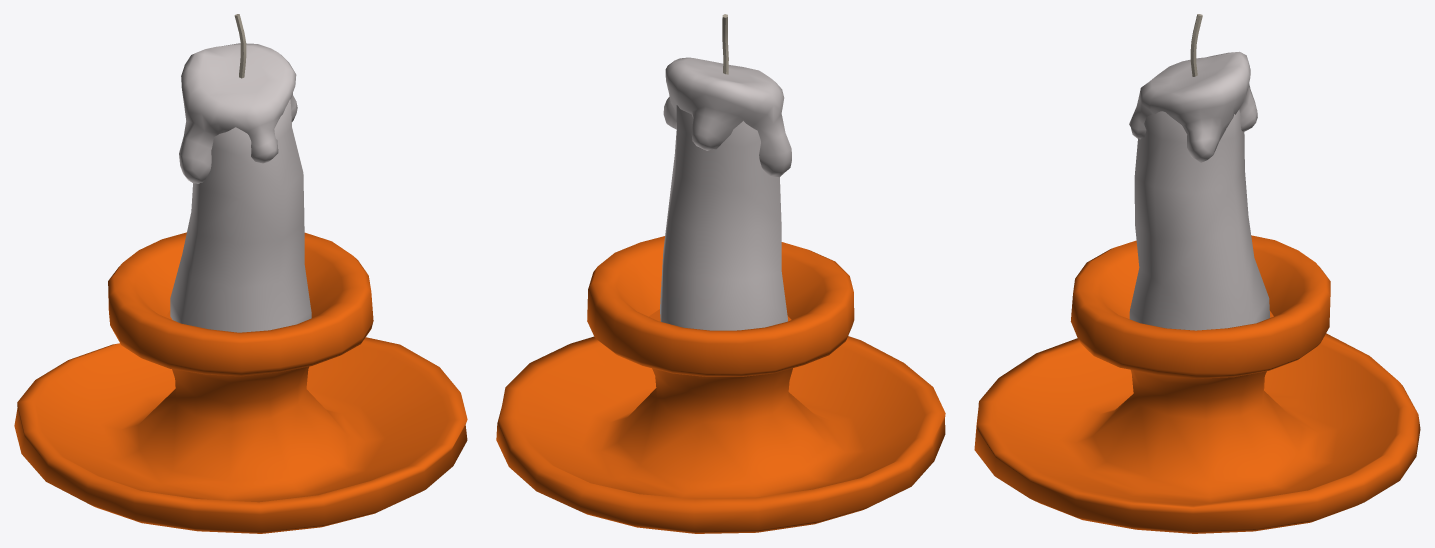
The model's file is SM_Candle_02.fbx.
3 renders of one model, left to right at view 1: azimuth 30°, elevation 25°; view 2: azimuth 150°, elevation 25°; view 3: azimuth 270°, elevation 25°, orthographic.
Parts seen in each view (by area): view 1: CANDLE_001; view 2: CANDLE_001; view 3: CANDLE_001.
Boxes of the visible parts, x1,y1,x2,y2 form: CANDLE_001: (14,14,467,533); CANDLE_001: (496,14,945,533); CANDLE_001: (974,14,1420,533).
Size of the model in its own units: 0.2179 by 0.2369 by 0.2175.
